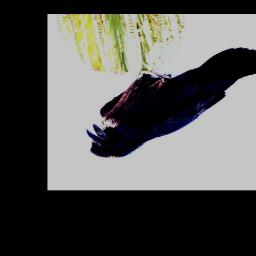Crow: (86, 47, 256, 158)
